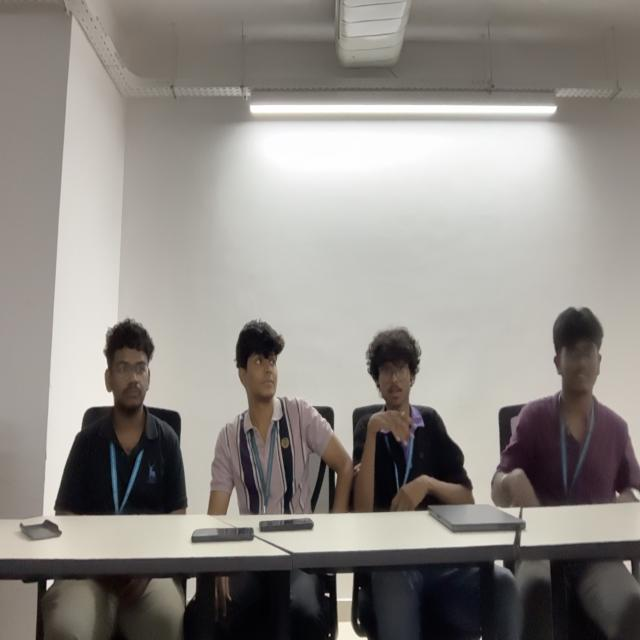Isolated: (509, 297, 640, 503)
socializing: (68, 306, 470, 508)
